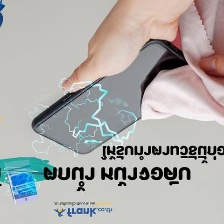phone: (29, 33, 209, 160)
